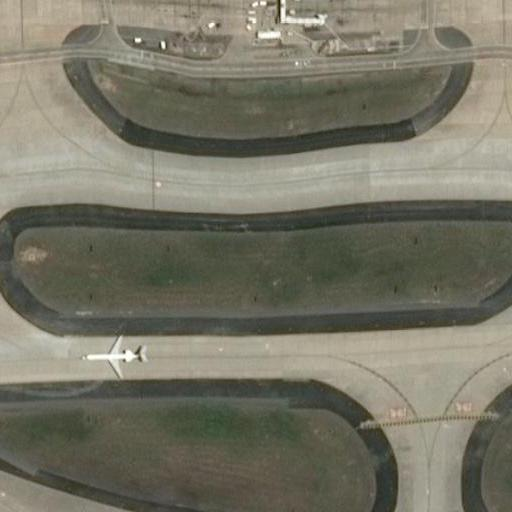Aircraft: (77, 320, 156, 385)
